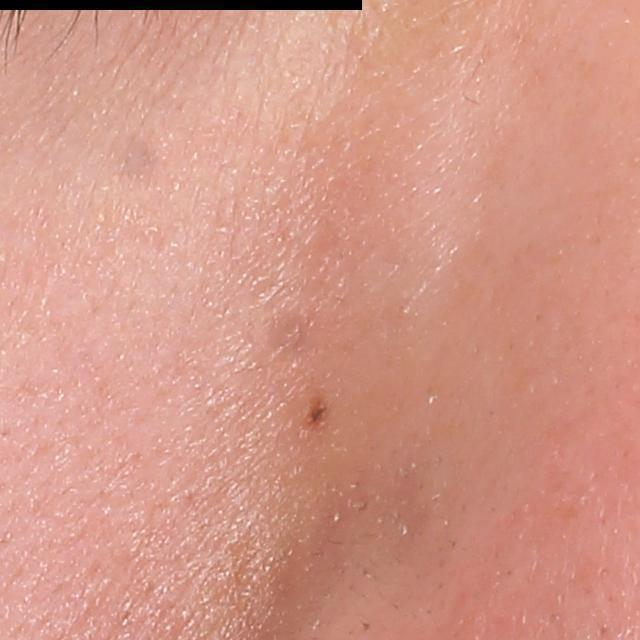nevus: (297, 394, 329, 436)
